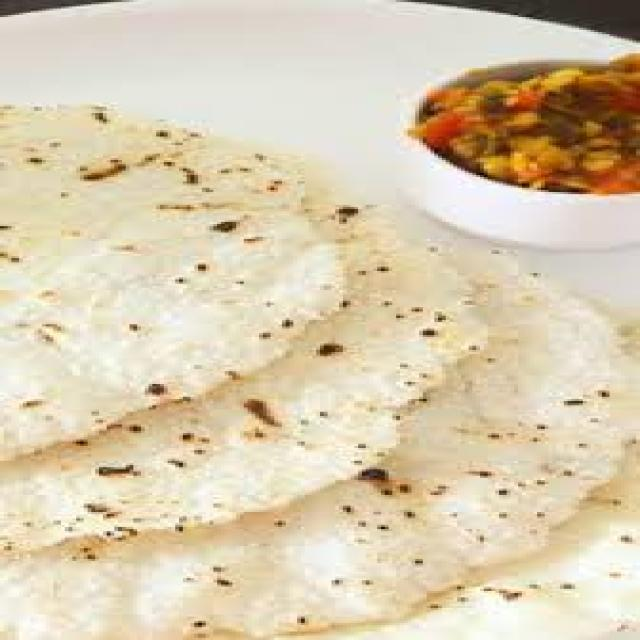RICE BHAKRI: (0, 96, 636, 638)
